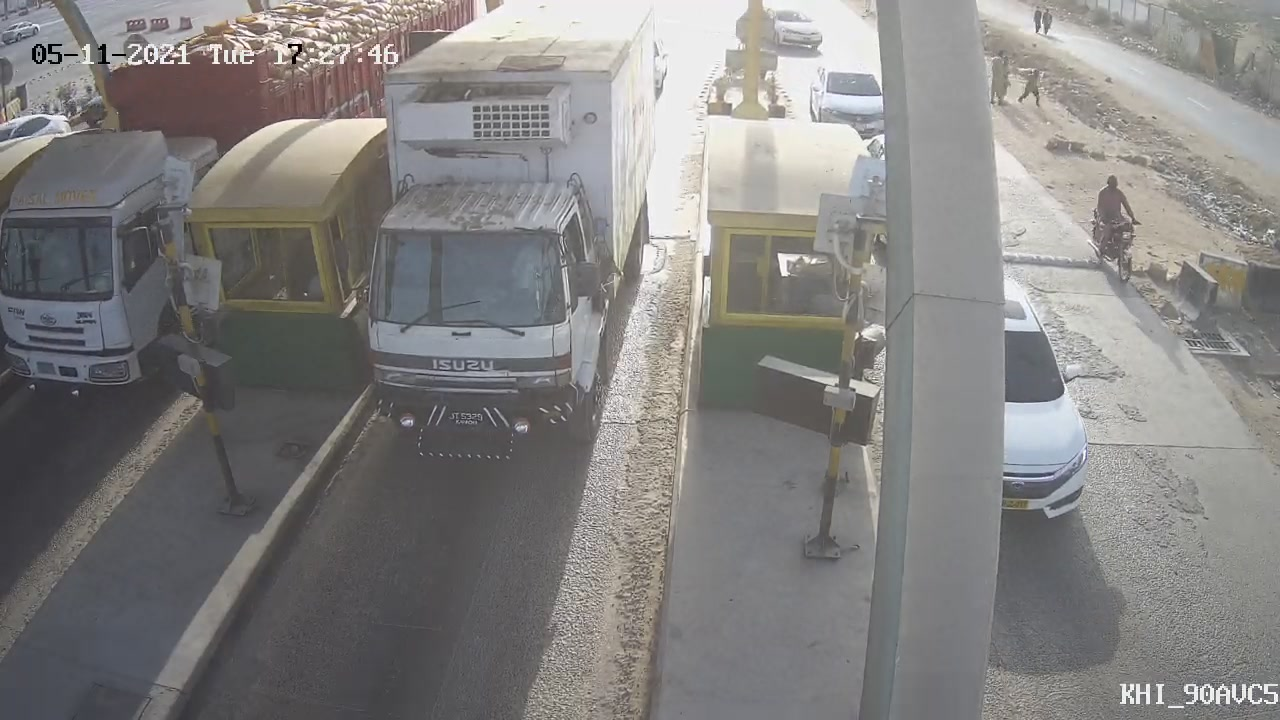F5: (313, 1, 680, 488)
